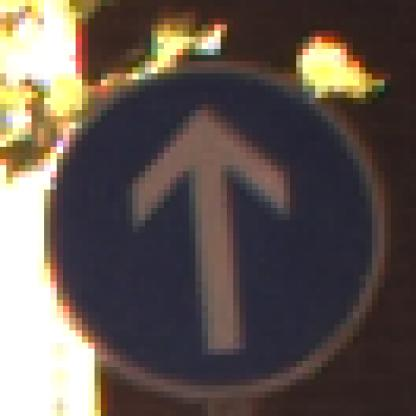AheadOnly: (39, 44, 379, 380)
